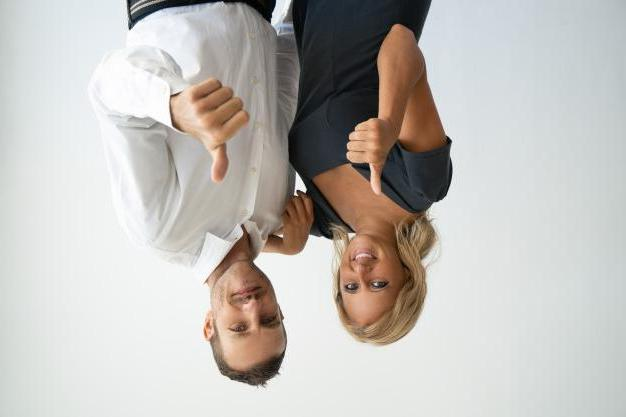thumbsdown: (188, 78, 250, 182), (346, 118, 387, 195)
